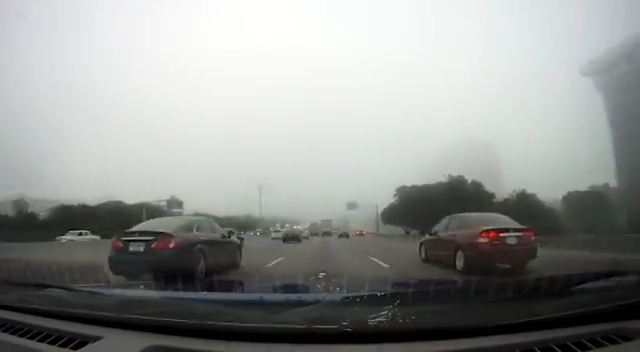bus: (320, 219, 334, 236), (308, 222, 321, 237)
car: (108, 215, 243, 281), (418, 211, 540, 271), (56, 228, 102, 249), (282, 229, 303, 243), (297, 227, 310, 240), (271, 228, 284, 239), (250, 230, 262, 238), (338, 230, 350, 238), (355, 229, 367, 237)
